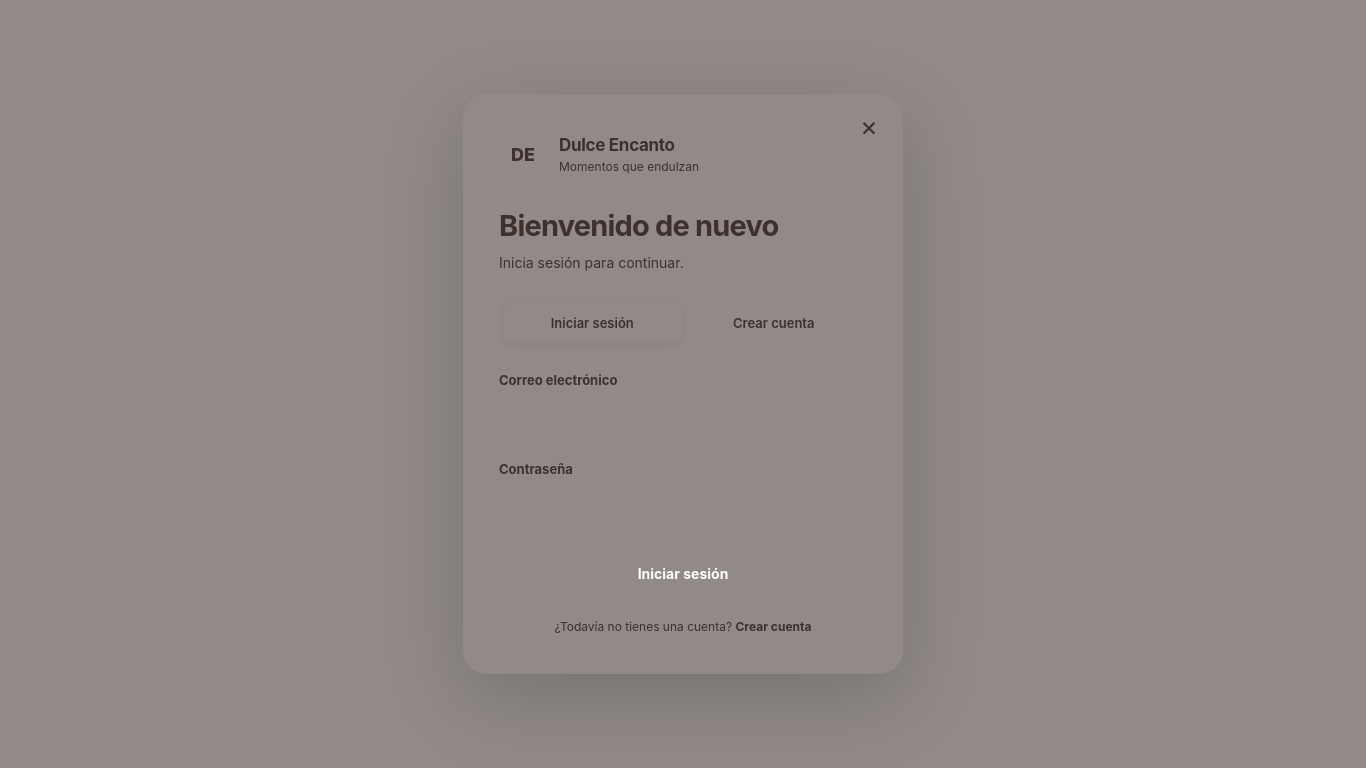
Auth › cambia al registro desde el botón secundario del formulario de inicio de sesión
Click the button "Crear cuenta" next to "¿Todavía no tienes una cuenta?" at {"x": 773, "y": 627}, box [735,616,811,638]
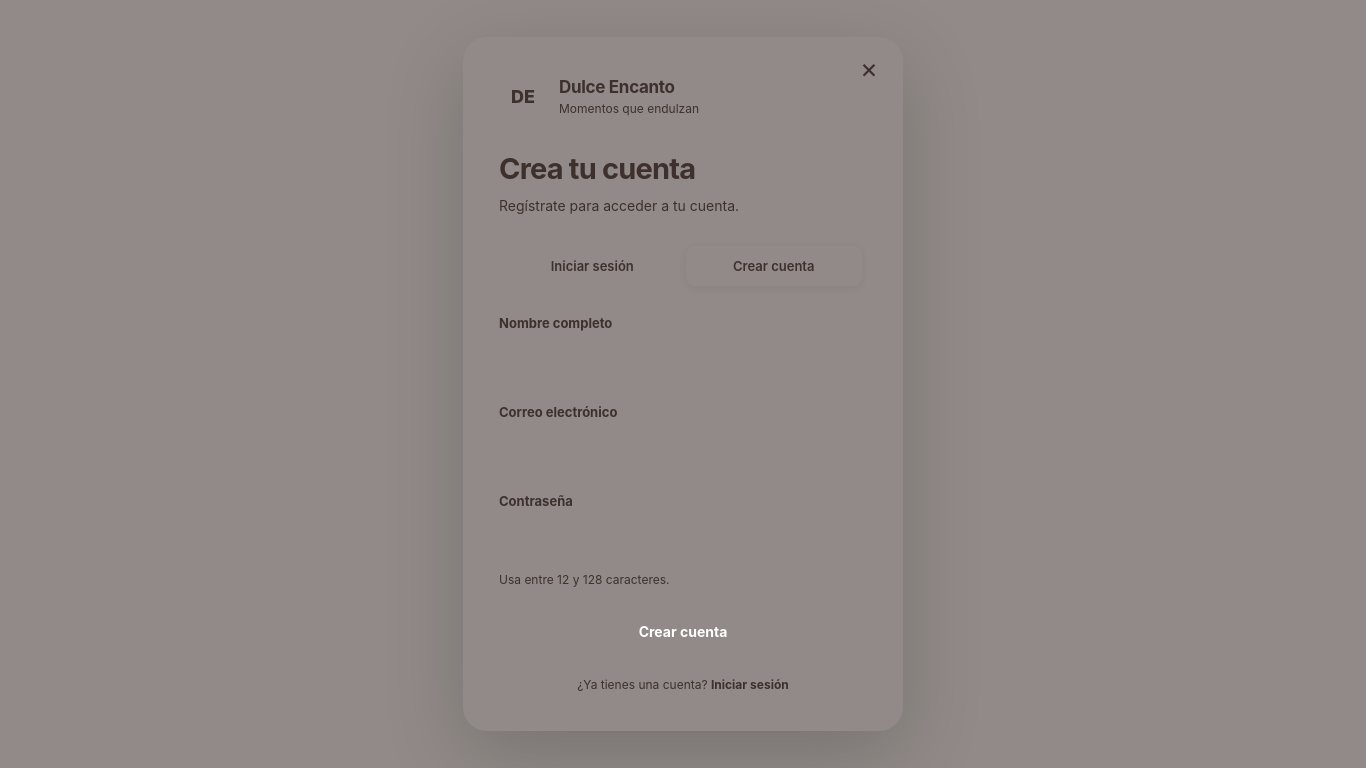
Now the heading "Crea tu cuenta" is shown, box [499,150,695,186]
